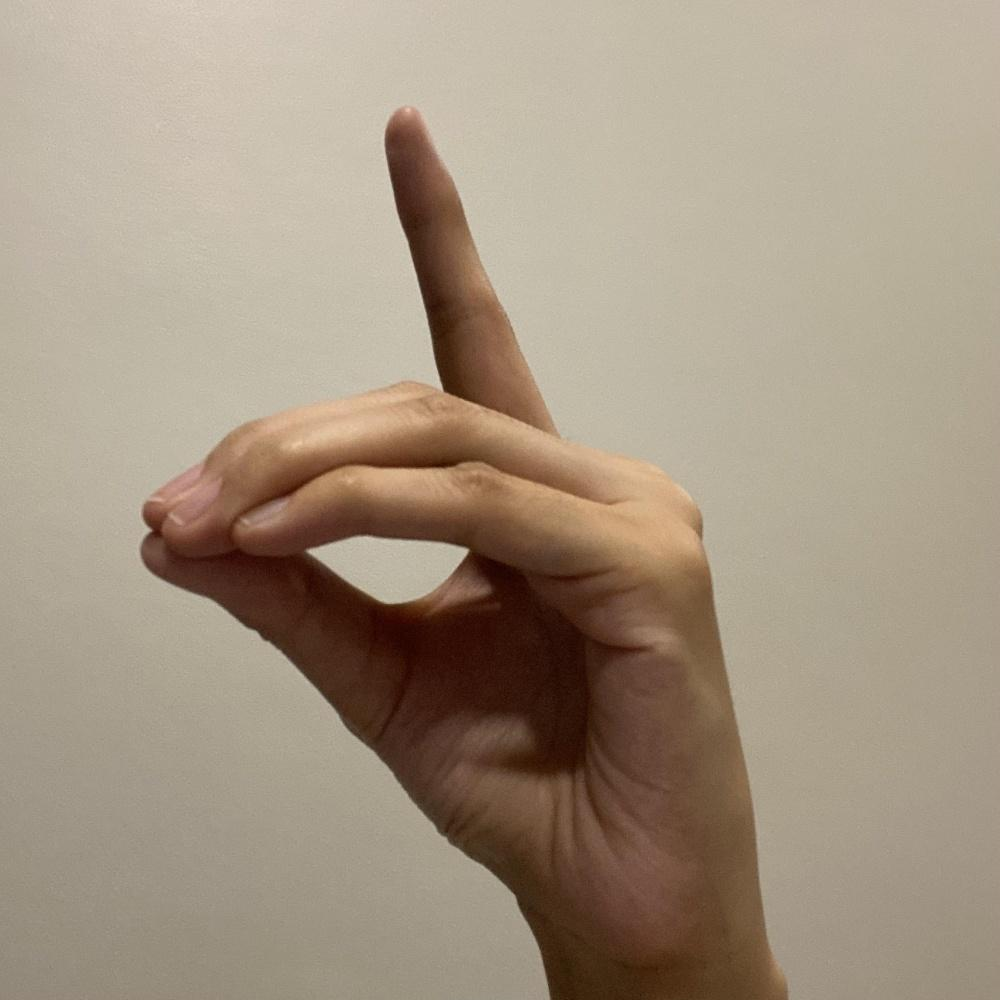d: (133, 98, 764, 963)
